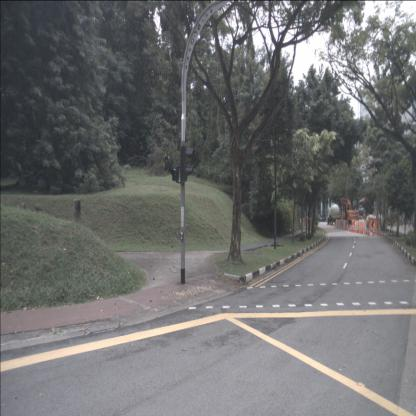movable_object-barrier: (344, 221, 348, 230)
movable_object-trafficcone: (372, 226, 376, 236), (378, 226, 382, 236), (367, 226, 370, 236), (365, 226, 368, 235), (363, 227, 366, 235)
vehicle-car: (316, 215, 324, 222)
vehicle-truck: (327, 203, 341, 224)
